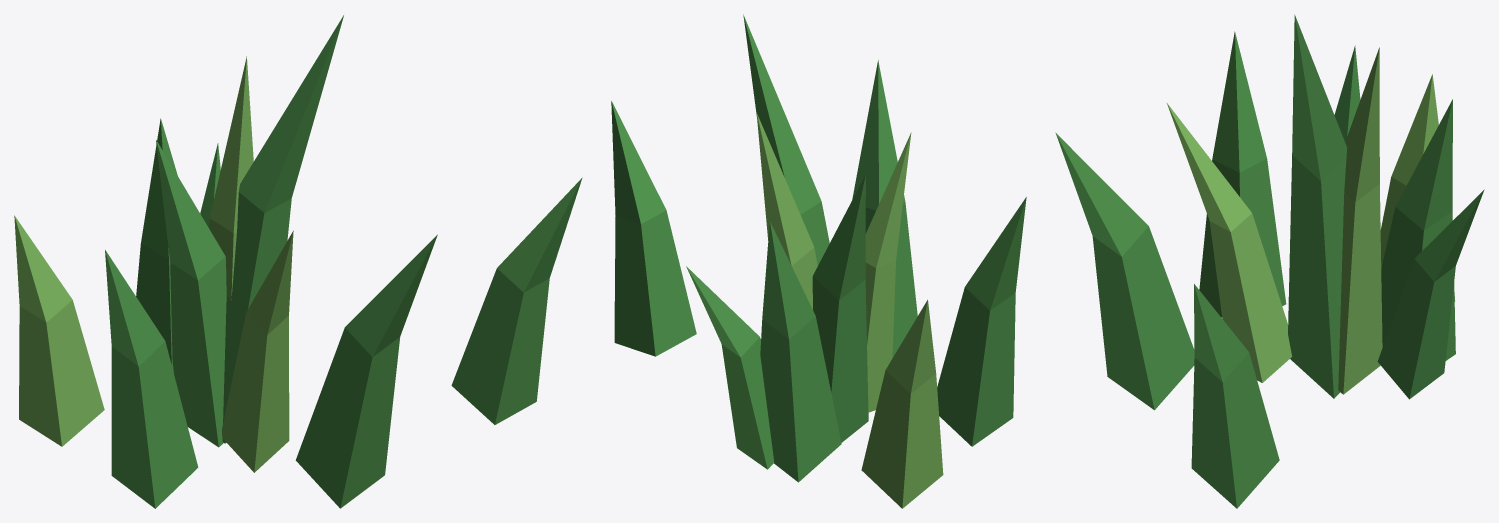
The model's file is grass_tuft_b.glb.
The picture shows the model from 3 angles, left to right: view 1: azimuth 30°, elevation 25°; view 2: azimuth 150°, elevation 25°; view 3: azimuth 270°, elevation 25°; orthographic projection. The views are drawn at different scales.
Visible parts, largest first — view 1: grass_tuft_b; view 2: grass_tuft_b; view 3: grass_tuft_b.
Part boxes in pixels (x1,y1,x2,y2): grass_tuft_b: (14,15,582,508); grass_tuft_b: (611,14,1026,508); grass_tuft_b: (1055,14,1484,508).
Size of the model in its own units: 0.3895 by 0.331 by 0.3113.
